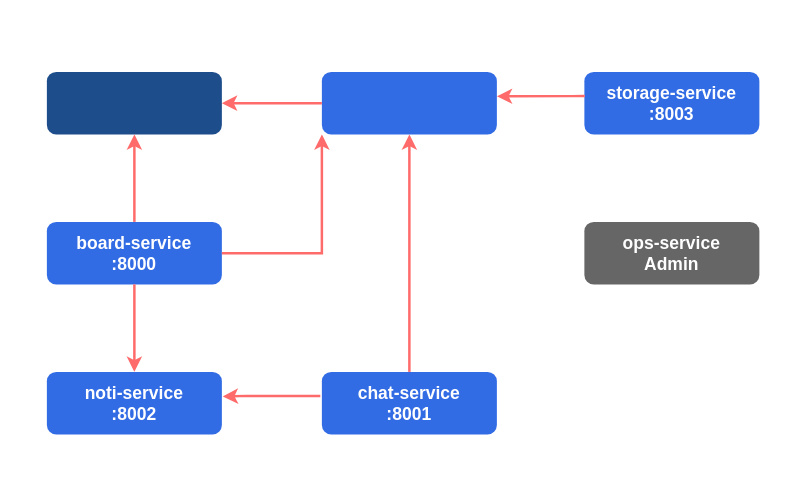
The diagram is 805 pixels wide and 493 high, and some of its shapes have lost their labels. Here are the shapes that lost their labels. From the top down, the centre of each, then its label:
At pixel 133 102: "auth-service :8080".
At pixel 408 102: "user-service :8081".
